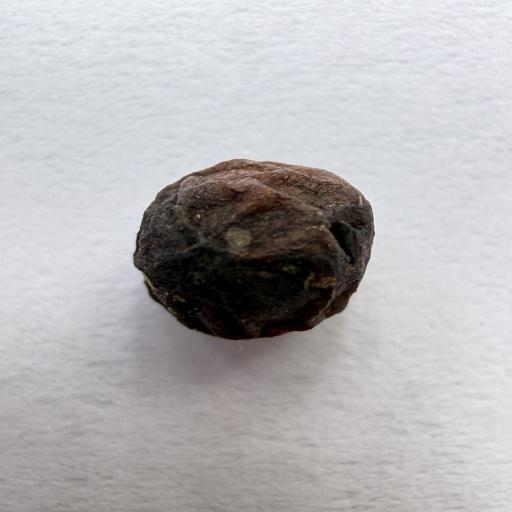Black_pepper: (98, 145, 398, 344)
